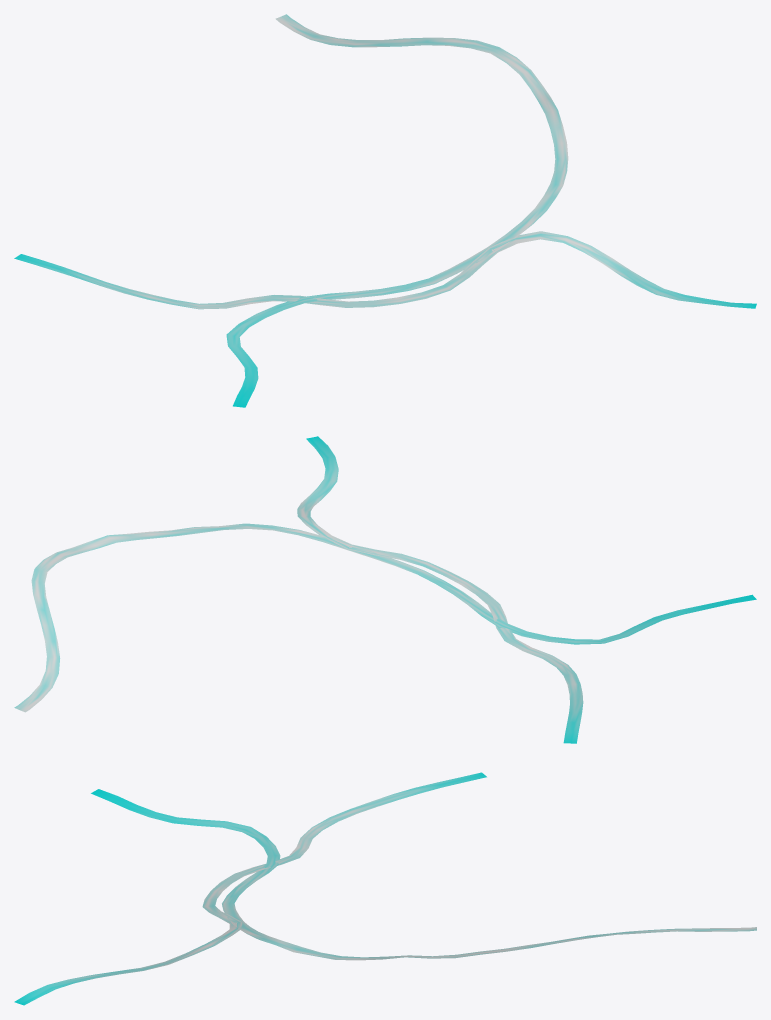
3 views of the same model, one above another, from view 1: azimuth 30°, elevation 25°; view 2: azimuth 150°, elevation 25°; view 3: azimuth 270°, elevation 25° (orthographic). The views are drawn at different scales.
Parts seen in each view (by area): view 1: SpaceCenter_Long3_GenerateRoad_Sand_TireTracks_Width_Mesh_x9; view 2: SpaceCenter_Long3_GenerateRoad_Sand_TireTracks_Width_Mesh_x9; view 3: SpaceCenter_Long3_GenerateRoad_Sand_TireTracks_Width_Mesh_x9.
Boxes of the visible parts, <box> form: SpaceCenter_Long3_GenerateRoad_Sand_TireTracks_Width_Mesh_x9: <box>14,14,756,407</box>; SpaceCenter_Long3_GenerateRoad_Sand_TireTracks_Width_Mesh_x9: <box>14,436,756,743</box>; SpaceCenter_Long3_GenerateRoad_Sand_TireTracks_Width_Mesh_x9: <box>14,772,756,1005</box>.
Size of the model in its own units: 2113 by 1637 by 242.
